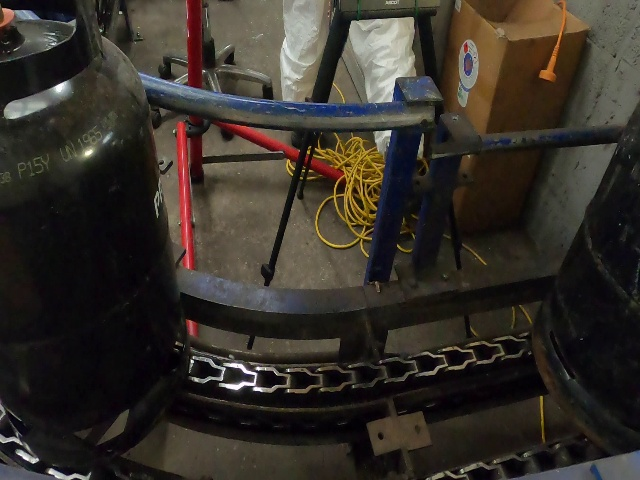gas_bottle: (0, 0, 631, 478)
